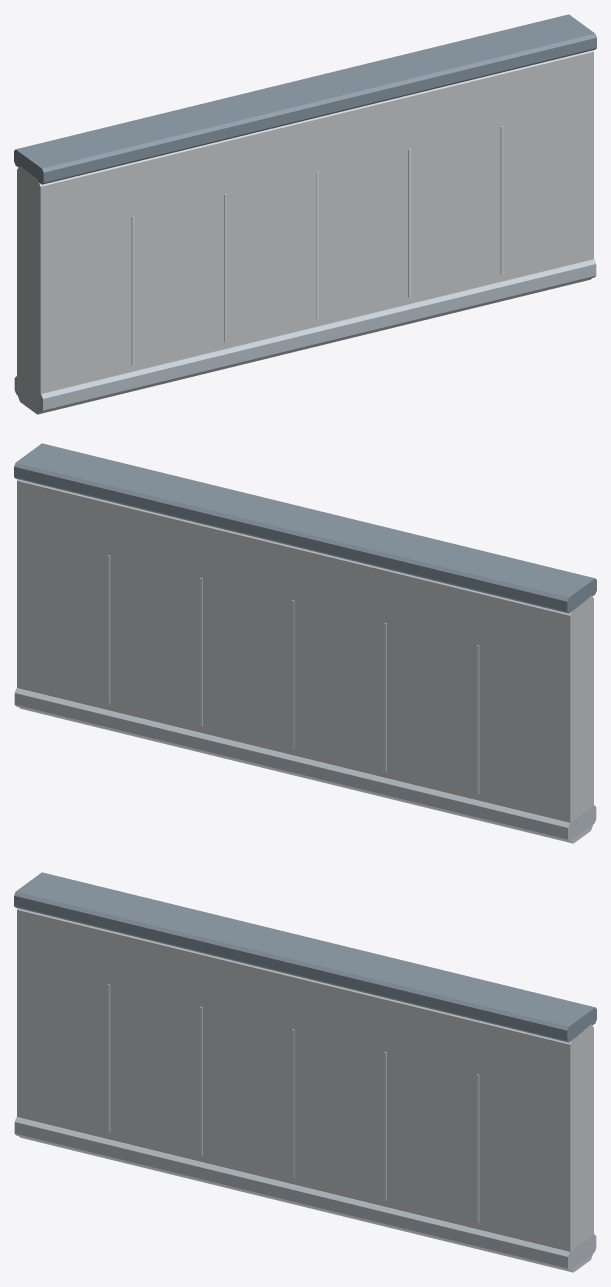
File: wall_school_store.glb
3 renders of one model, top to bottom at view 1: azimuth 30°, elevation 25°; view 2: azimuth 150°, elevation 25°; view 3: azimuth 330°, elevation 25°, orthographic.
Parts seen in each view (by area): view 1: Part_001, Part_002, Part_003, Part_011, Part_005, Part_013; view 2: Part_001, Part_002, Part_003, Part_010, Part_004, Part_012; view 3: Part_001, Part_002, Part_003, Part_007, Part_005, Part_013.
Boxes of the visible parts, x1,y1,x2,y2 form: Part_001: [17, 50, 593, 414]; Part_002: [14, 14, 596, 184]; Part_003: [14, 259, 596, 412]; Part_011: [408, 148, 411, 297]; Part_005: [131, 216, 134, 364]; Part_013: [500, 126, 503, 274]; Part_001: [17, 479, 593, 843]; Part_002: [14, 443, 596, 613]; Part_003: [14, 688, 596, 841]; Part_010: [199, 577, 202, 726]; Part_004: [476, 645, 479, 793]; Part_012: [107, 555, 110, 703]; Part_001: [17, 908, 593, 1272]; Part_002: [14, 872, 596, 1042]; Part_003: [14, 1117, 596, 1270]; Part_007: [199, 1006, 202, 1155]; Part_005: [107, 984, 110, 1132]; Part_013: [476, 1074, 479, 1222].
Bounding box in the file's own units: 2.7 × 1.16 × 0.25.
